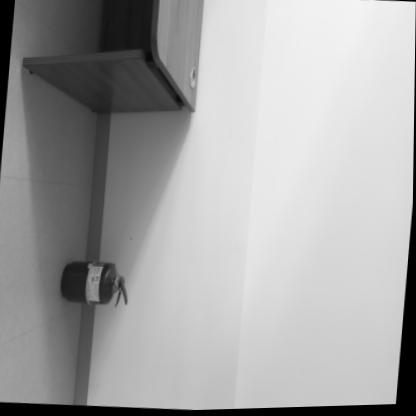FE: (59, 258, 132, 309)
